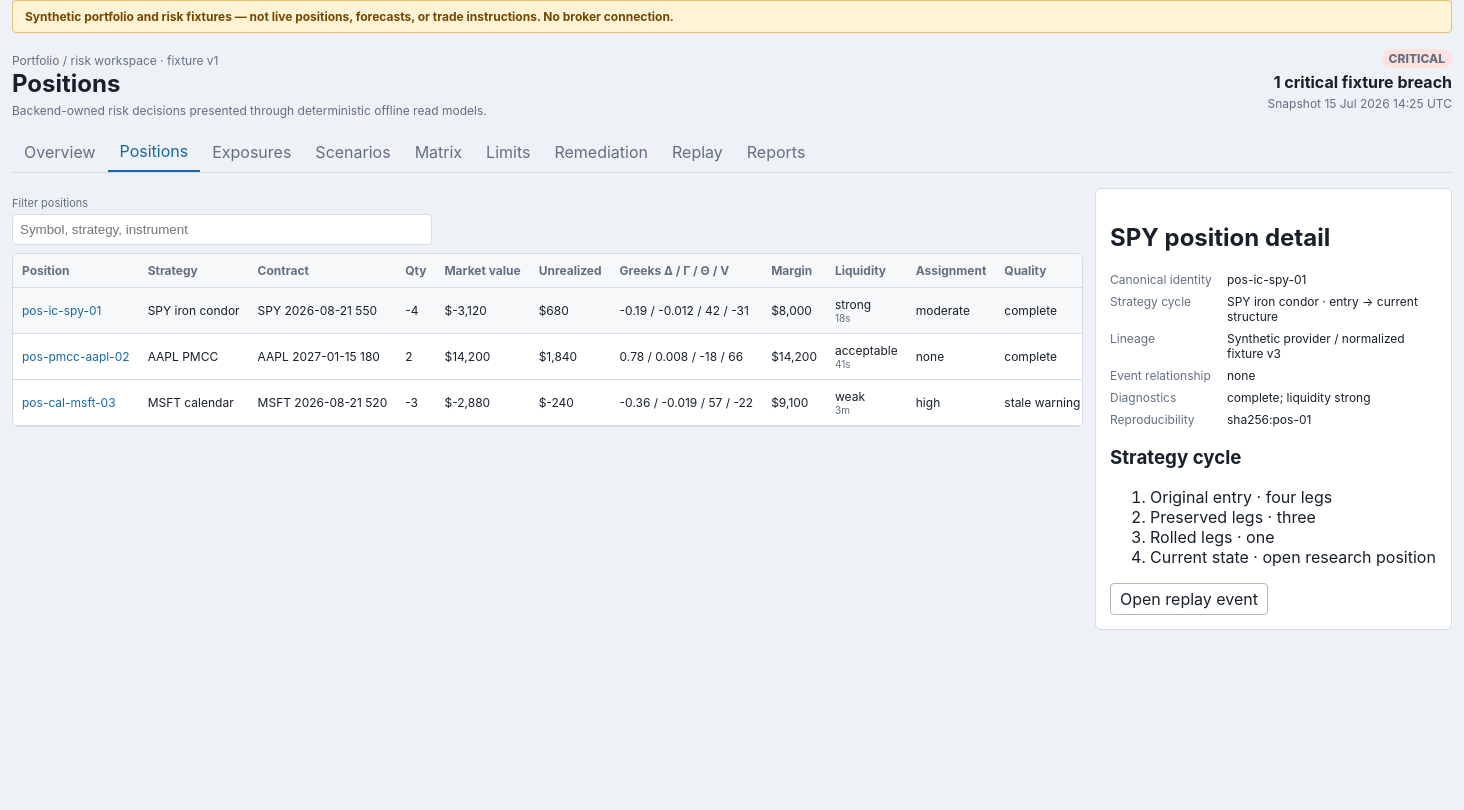
portfolio and risk workspace › supports position filtering and typed detail
This screenshot has width=1464, height=810.
Type "MSFT" into the field labelled "Filter positions" at (222, 230), box [12, 214, 432, 245]
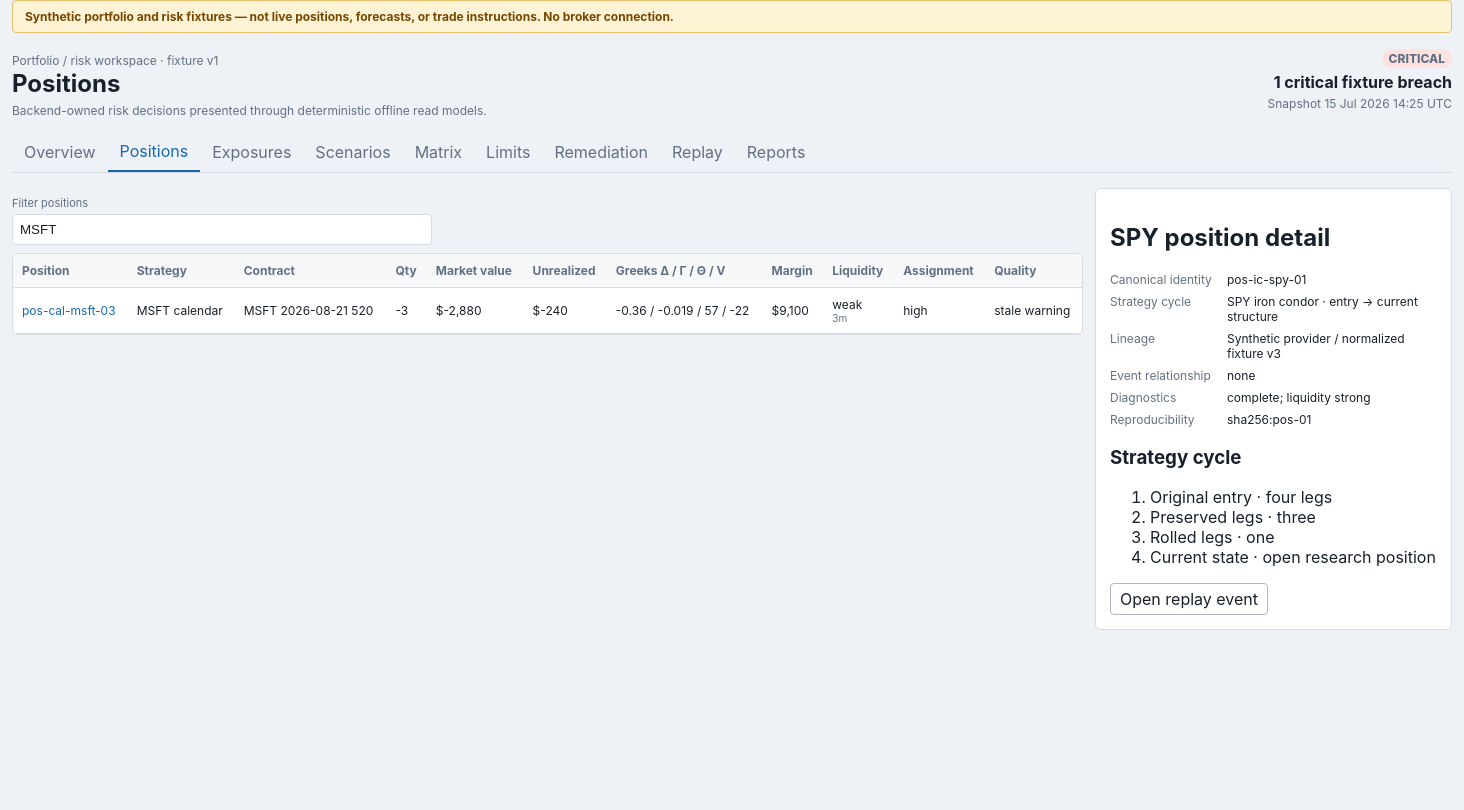
Click the button "pos-cal-msft-03" at (69, 310), box [22, 303, 116, 318]
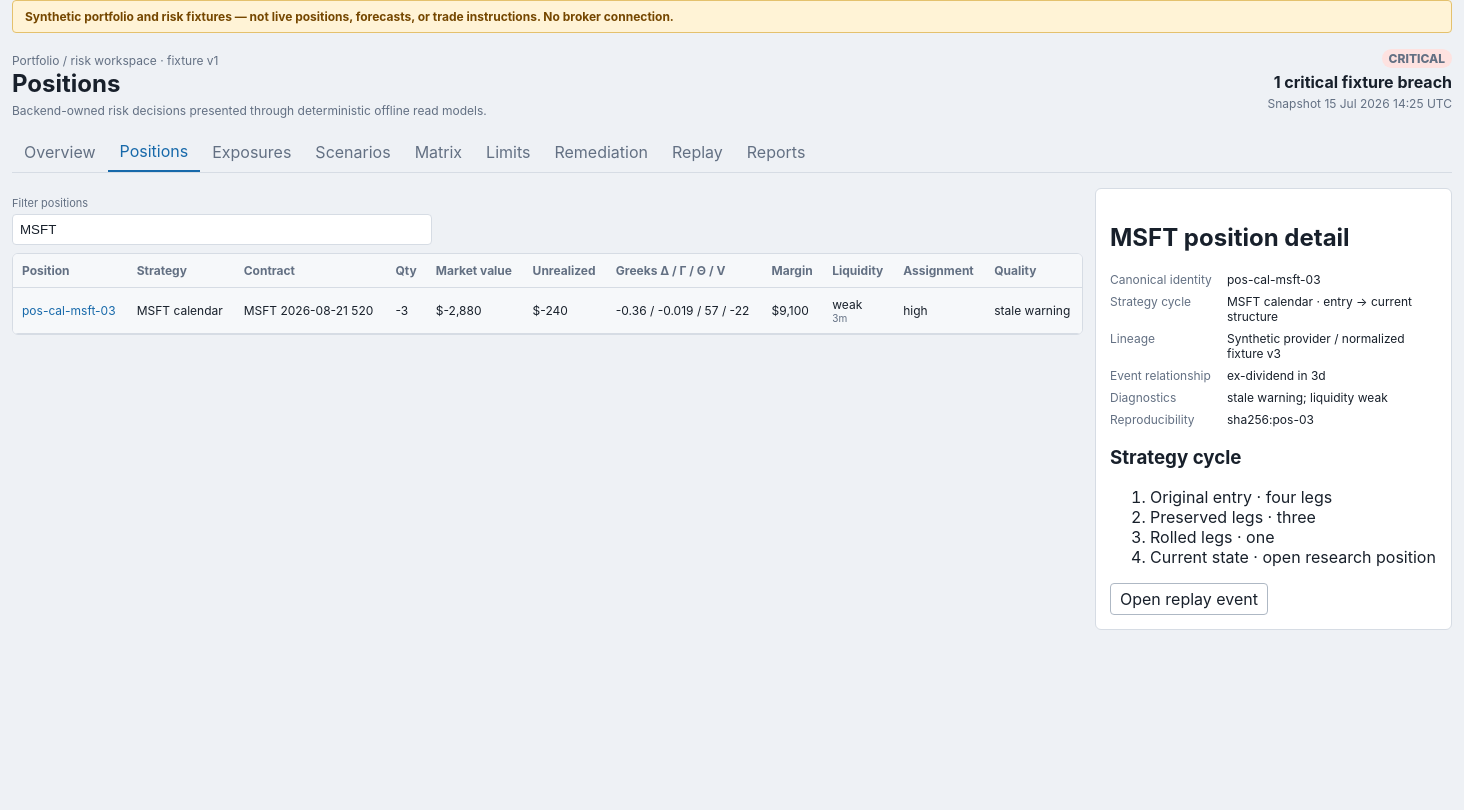
Expected: the element "position detail" shows "sha256:pos-03", [1227, 412, 1314, 427]
